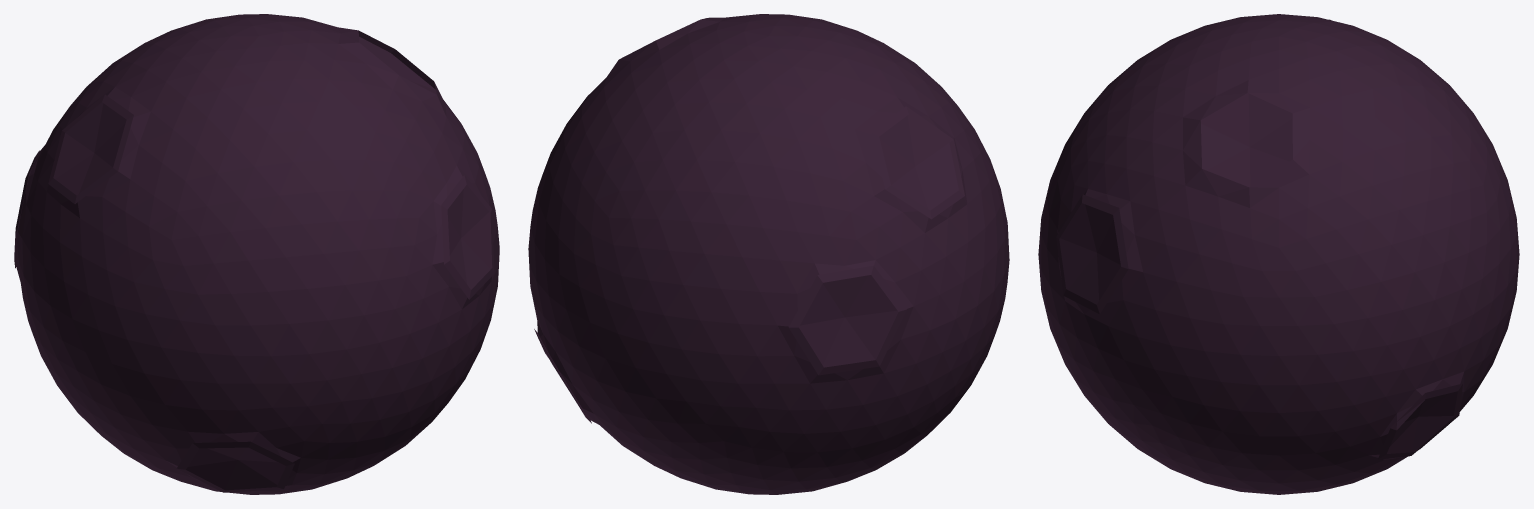
The model's file is planet1.fbx.
3 views of the same model, side by side, from view 1: azimuth 30°, elevation 25°; view 2: azimuth 150°, elevation 25°; view 3: azimuth 270°, elevation 25° (orthographic).
Visible parts, largest first — view 1: Icosphere.003; view 2: Icosphere.003; view 3: Icosphere.003.
Boxes of the visible parts, left/top/right/bottom form: Icosphere.003: left=14, top=14, right=499, bottom=494; Icosphere.003: left=528, top=14, right=1009, bottom=494; Icosphere.003: left=1038, top=14, right=1519, bottom=494.
Bounding box in the file's own units: 210 × 210 × 210.
